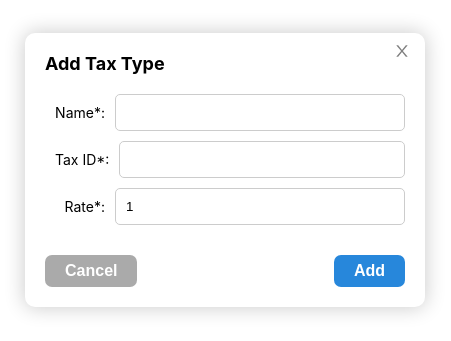
Test: Tax Add/Edit › should validate input fields on Add - tax ID
This screenshot has width=451, height=341.
Type "a value" into the field named "input-field" next to "Name*:". click: (260, 112)
box: [115,94,405,131]
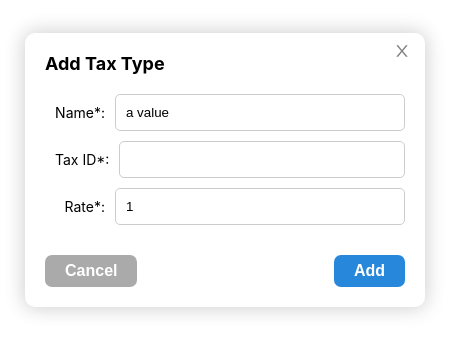
Click the button with aria-label "primary-button". click: (369, 271)
box: [334,255,405,287]
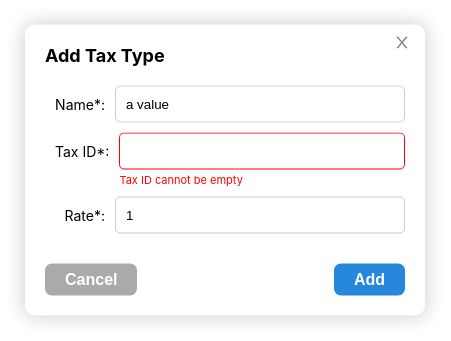
Now the text "Tax ID cannot be empty" is shown, box [119,172,243,186]
